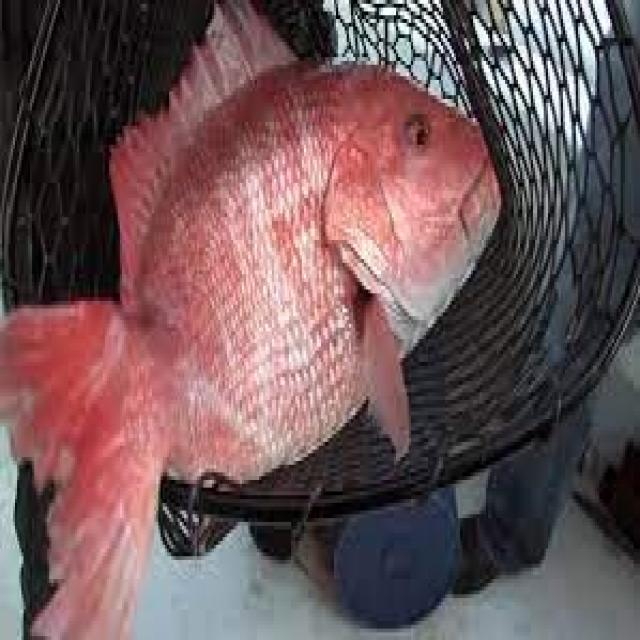northern-red-snapper: (0, 4, 503, 640)
